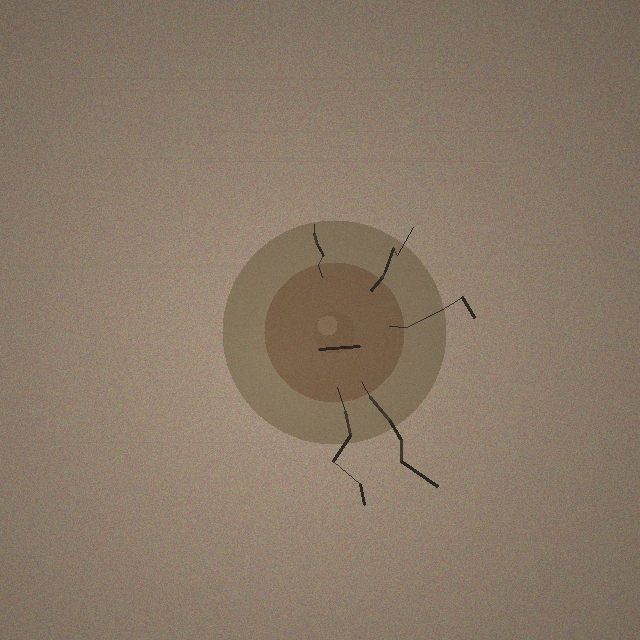crack: (222, 220, 446, 444)
